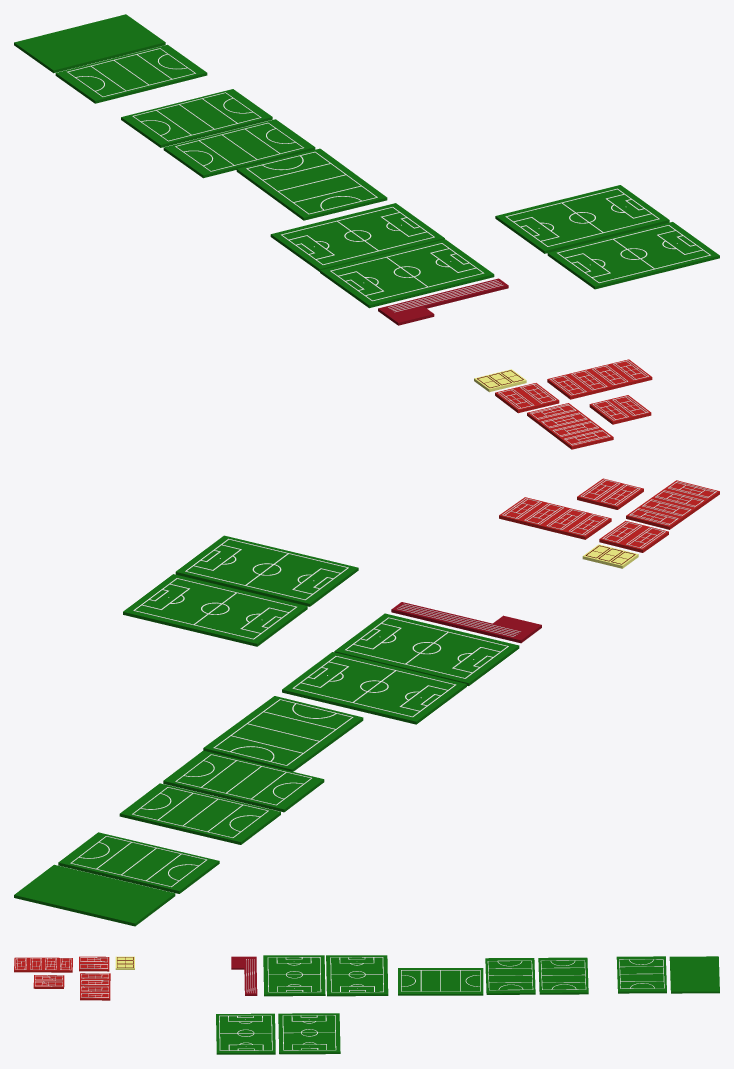
Rendered from sports.fbx.
3 renders of one model, top to bottom at view 1: azimuth 30°, elevation 25°; view 2: azimuth 150°, elevation 25°; view 3: azimuth 270°, elevation 25°, orthographic. The views are drawn at different scales.
Visible parts, largest first — view 1: Box009, Box007, Box011, Box005, Box014, Box021, Box018, Box020, Box016, Box032, Box040, Box052 (+10 smaller); view 2: Box011, Box007, Box009, Box005, Box014, Box021, Box020, Box016, Box018, Box032, Box040, Box052 (+11 smaller); view 3: Box007, Box009, Box011, Box005, Box014, Box021, Box020, Box018, Box016, Box040, Box032, Box052 (+11 smaller).
Boxes of the visible parts, left/top/right/bottom form: Box009: left=320, top=239, right=494, bottom=308; Box007: left=495, top=185, right=669, bottom=253; Box011: left=270, top=203, right=444, bottom=271; Box005: left=547, top=222, right=719, bottom=289; Box014: left=236, top=148, right=387, bottom=220; Box021: left=14, top=14, right=165, bottom=73; Box018: left=121, top=89, right=272, bottom=147; Box020: left=55, top=44, right=207, bottom=103; Box016: left=163, top=119, right=315, bottom=178; Box032: left=547, top=359, right=652, bottom=399; Box040: left=527, top=403, right=613, bottom=449; Box052: left=378, top=278, right=508, bottom=325; Box011: left=282, top=652, right=466, bottom=724; Box007: left=123, top=574, right=307, bottom=646; Box009: left=334, top=613, right=519, bottom=685; Box005: left=175, top=535, right=358, bottom=606; Box014: left=203, top=696, right=363, bottom=771; Box021: left=14, top=864, right=175, bottom=926; Box020: left=58, top=832, right=219, bottom=893; Box016: left=163, top=750, right=324, bottom=812; Box018: left=119, top=783, right=280, bottom=844; Box032: left=499, top=497, right=611, bottom=539; Box040: left=626, top=480, right=719, bottom=529; Box052: left=391, top=602, right=541, bottom=643; Box007: left=278, top=1013, right=340, bottom=1054; Box009: left=263, top=955, right=325, bottom=996; Box011: left=326, top=955, right=388, bottom=996; Box005: left=216, top=1013, right=275, bottom=1054; Box014: left=398, top=968, right=483, bottom=995; Box021: left=669, top=956, right=719, bottom=993; Box020: left=616, top=956, right=666, bottom=993; Box018: left=538, top=957, right=588, bottom=994; Box016: left=485, top=958, right=535, bottom=994; Box040: left=14, top=957, right=72, bottom=972; Box032: left=80, top=973, right=110, bottom=1000; Box052: left=231, top=956, right=257, bottom=995.
Bounding box in the file's own units: 233 × 2.28 × 711.
